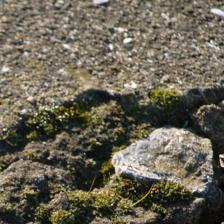Crack: (5, 80, 220, 161)
